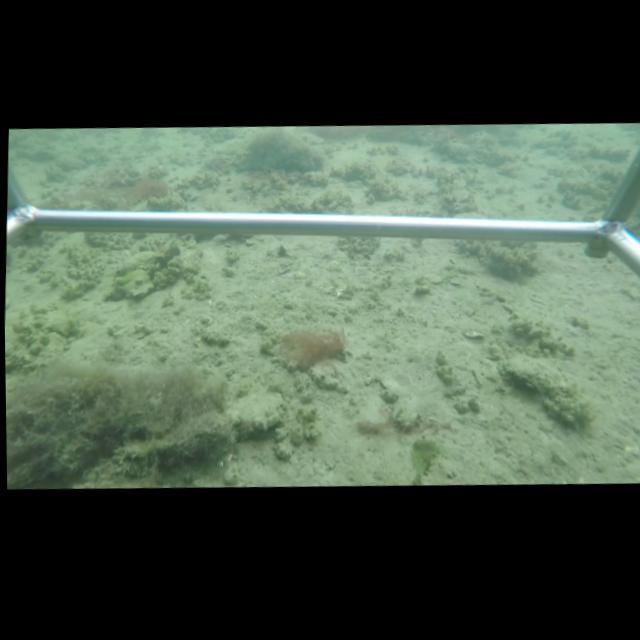Oyster-Closed: (498, 341, 576, 390)
